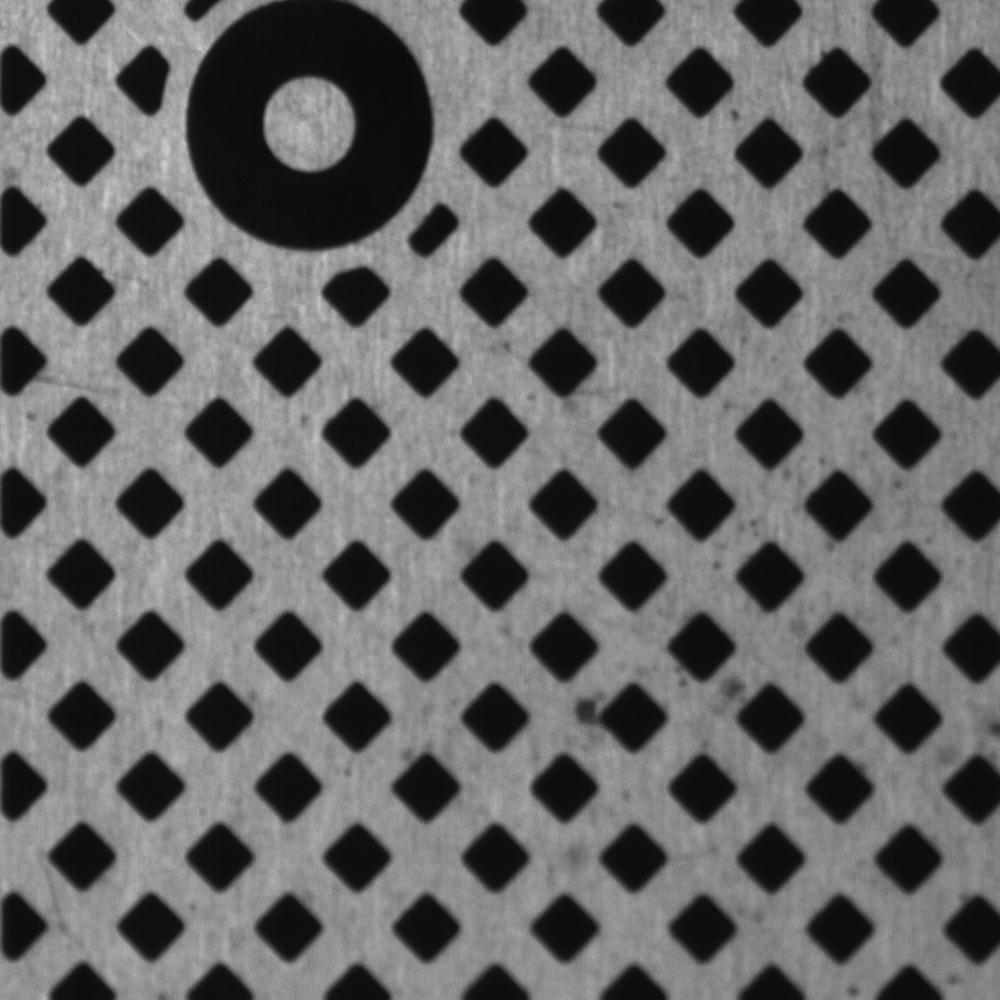Discolor: (559, 684, 615, 739), (713, 662, 757, 707)
Scar: (27, 839, 77, 946), (38, 373, 125, 400), (577, 373, 639, 404), (355, 240, 421, 261)
